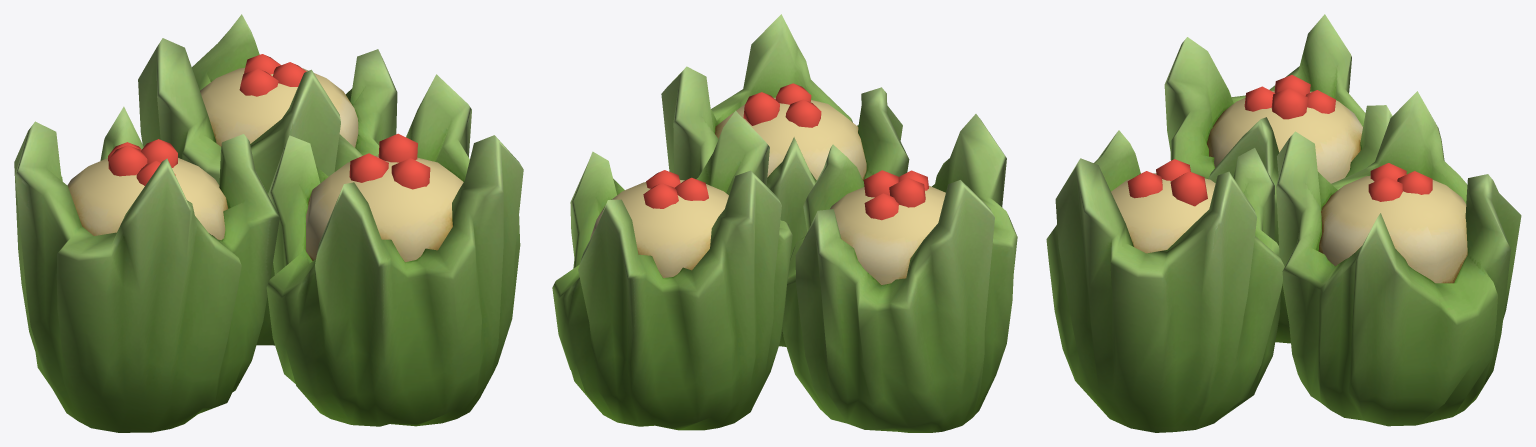
File: m_recipe_dimsum_02.fbx
3 views of the same model, side by side, from view 1: azimuth 30°, elevation 25°; view 2: azimuth 150°, elevation 25°; view 3: azimuth 270°, elevation 25° (orthographic). The views are drawn at different scales.
Visible parts, largest first — view 1: m_recipe_dimsum_01_0; view 2: m_recipe_dimsum_01_0; view 3: m_recipe_dimsum_01_0.
Boxes of the visible parts, bbox=[...] form: m_recipe_dimsum_01_0: bbox=[14, 14, 523, 432]; m_recipe_dimsum_01_0: bbox=[552, 14, 1017, 432]; m_recipe_dimsum_01_0: bbox=[1046, 14, 1521, 432].
Size of the model in its own units: 0.6266 by 0.4136 by 0.6724.
Materials: 1 (1 with a texture image).
